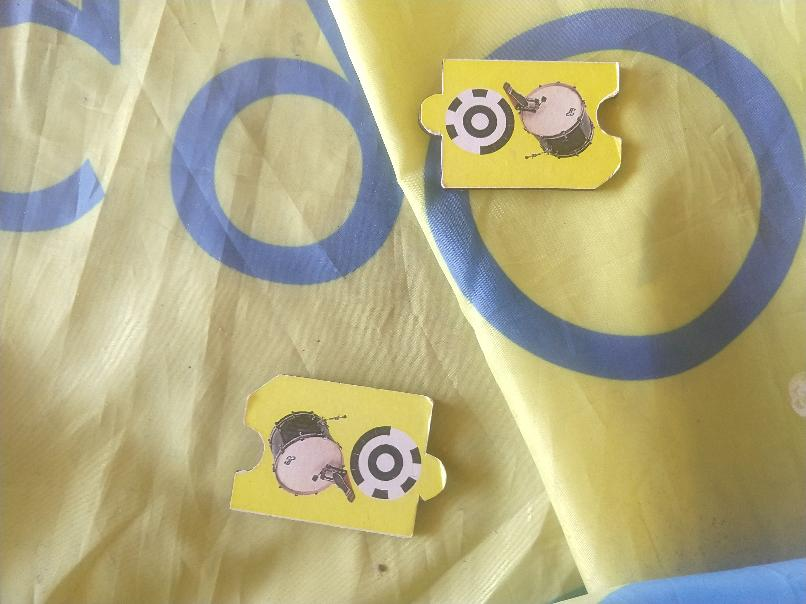bumbo: (228, 371, 450, 540), (416, 53, 631, 193)
